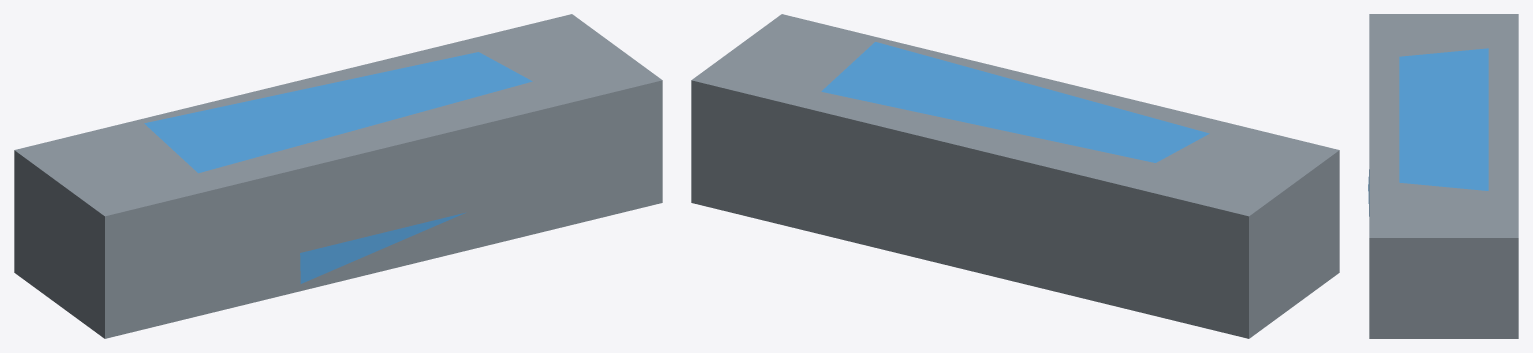
Rendered from AL_ResoluteDestroyer_LOD1.glb.
3 renders of one model, left to right at view 1: azimuth 30°, elevation 25°; view 2: azimuth 150°, elevation 25°; view 3: azimuth 270°, elevation 25°, orthographic. The views are drawn at different scales.
Visible parts, largest first — view 1: EntranceGate; view 2: EntranceGate; view 3: EntranceGate.
Part boxes in pixels (<box>): EntranceGate: <box>14,14,662,338</box>; EntranceGate: <box>691,14,1339,338</box>; EntranceGate: <box>1368,14,1518,338</box>.
Size of the model in its own units: 1600 by 371 by 453.
